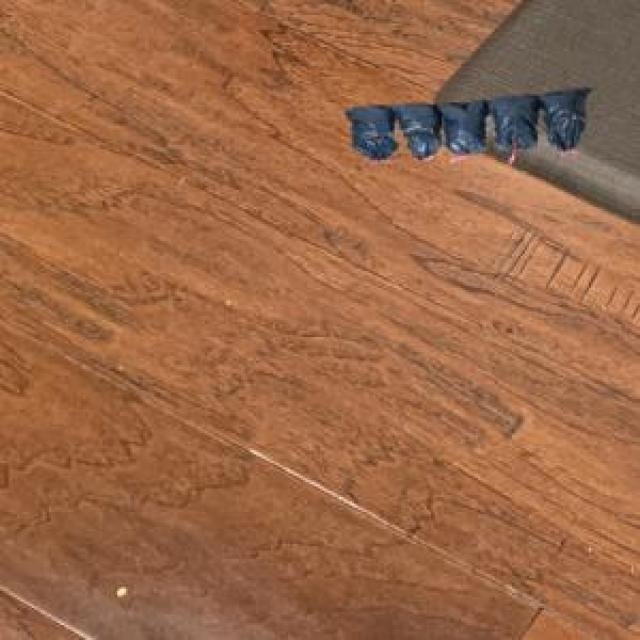garbage_bag: (339, 79, 595, 165)
